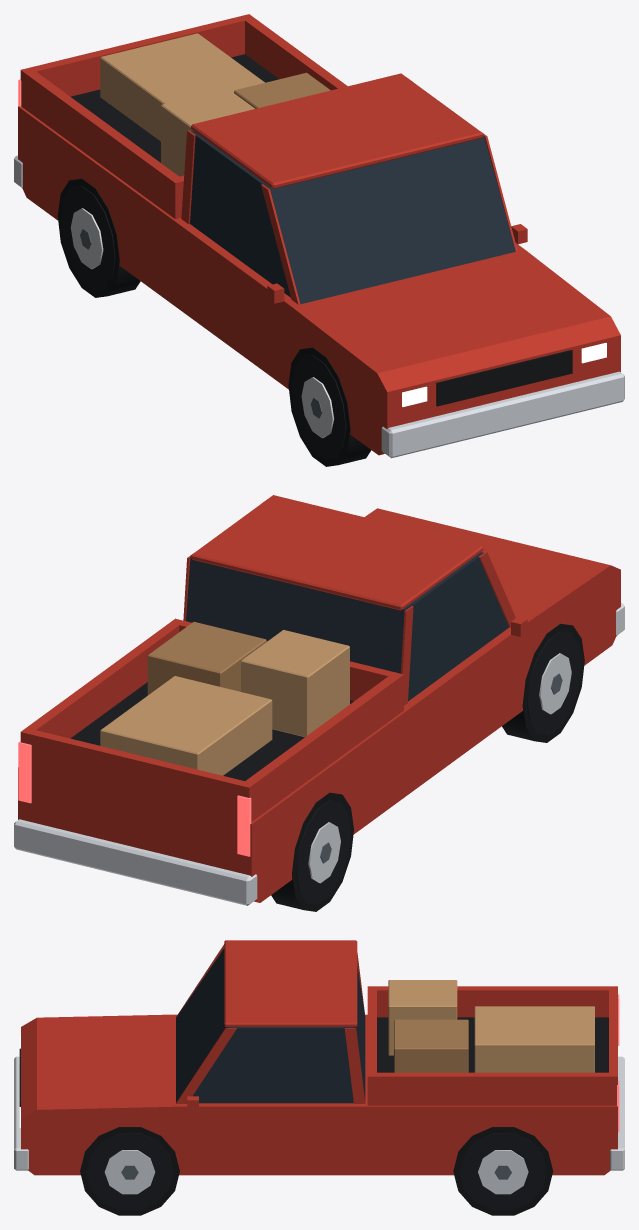
File: pickup.glb
3 views of the same model, one above another, from view 1: azimuth 30°, elevation 25°; view 2: azimuth 150°, elevation 25°; view 3: azimuth 270°, elevation 25° (orthographic). The views are drawn at different scales.
Parts seen in each view (by area): view 1: pickup; view 2: pickup; view 3: pickup.
Part boxes in pixels (x1,y1,x2,y2): pickup: (14, 14, 624, 466); pickup: (14, 495, 624, 911); pickup: (14, 940, 624, 1215).
Size of the model in its own units: 2.06 by 1.8 by 5.32.
